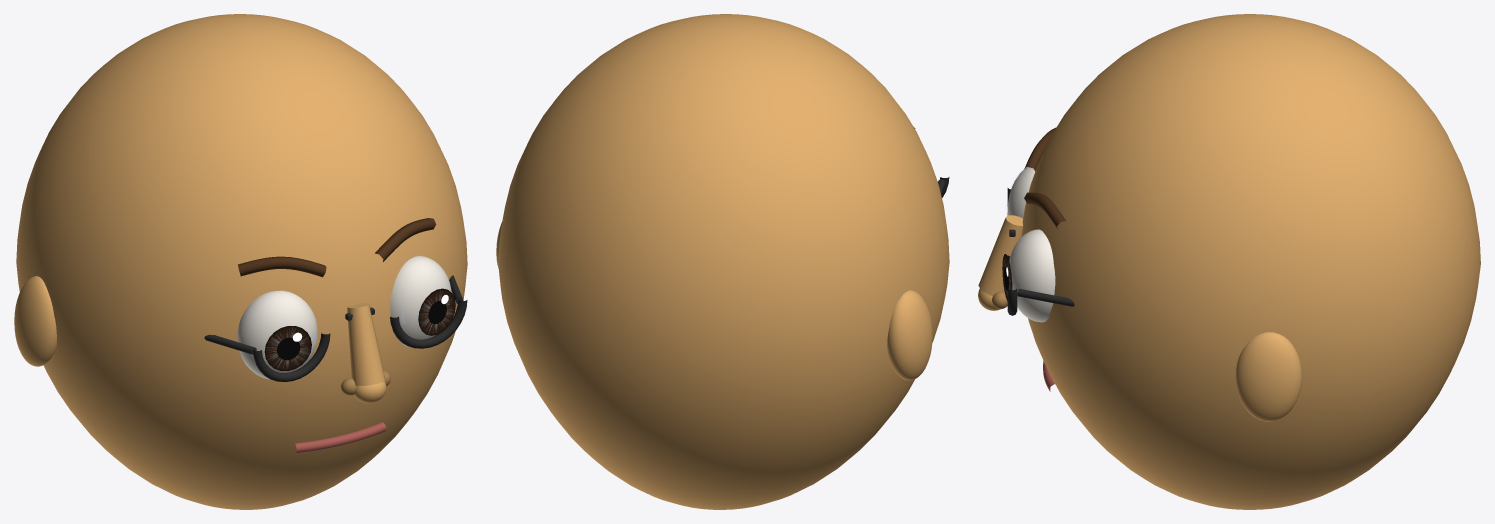
Rendered from 11-demi-lunes.glb.
3 renders of one model, left to right at view 1: azimuth 30°, elevation 25°; view 2: azimuth 150°, elevation 25°; view 3: azimuth 270°, elevation 25°, orthographic.
Bounding box in the file's own units: 0.3087 × 0.321 × 0.3166.
Materials: 11 (1 with a texture image).
